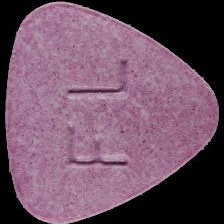0456-1410: (0, 0, 224, 224)
